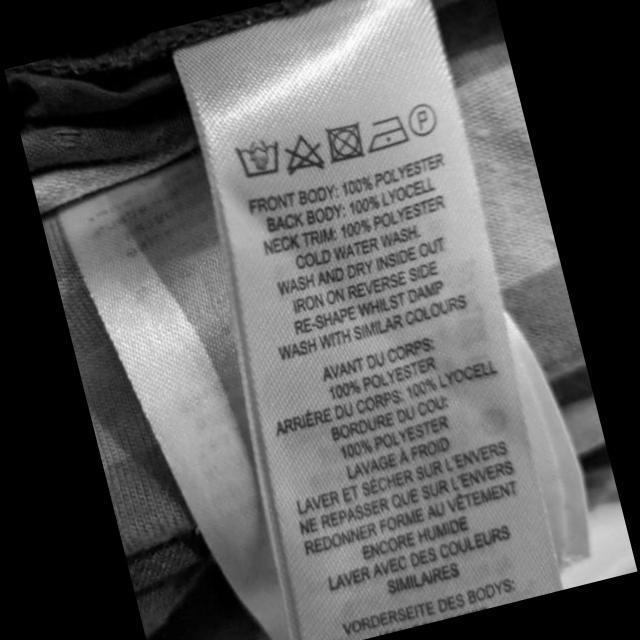DN_bleach: (274, 128, 328, 180)
DN_tumble_dry: (321, 116, 368, 166)
hand_wash: (230, 132, 284, 182)
iron_low: (358, 112, 412, 154)
normal_dry_clean_solvents: (402, 99, 441, 140)
